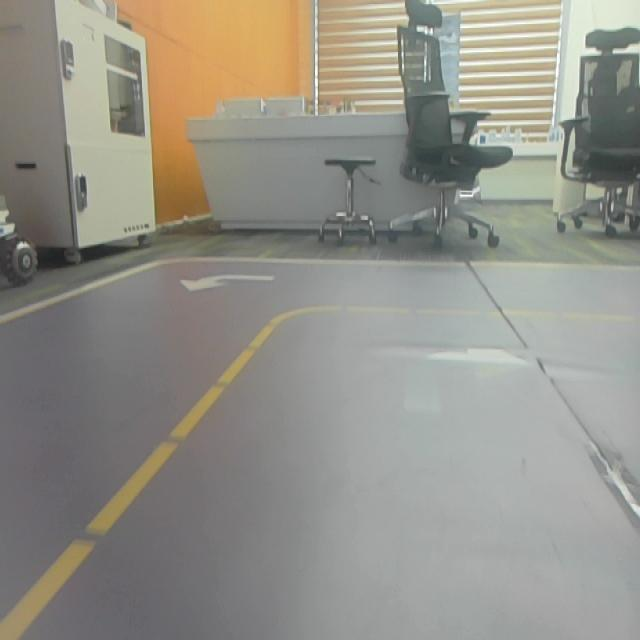left_lane: (0, 314, 284, 640)
